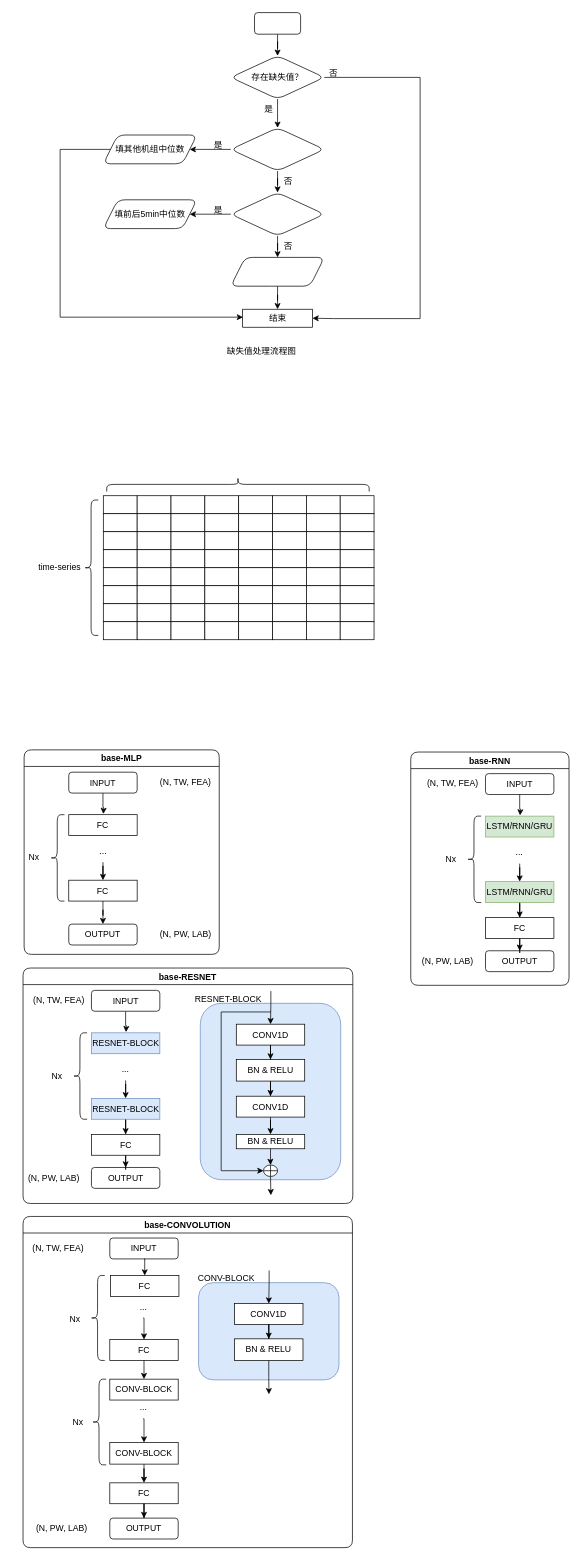
Image size: 582x1560. Some labels were removed from this diagram. The centre of each missing label's shape, as x and y in pixels:
features: point 237,484
其他机组有值？: point 277,149
删除这条数据: point 277,271
前后5min内有值？: point 277,214
输入: point 277,23
